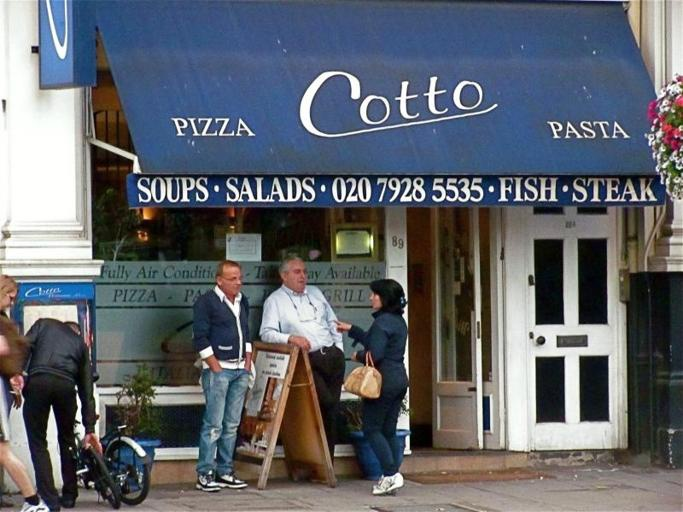non-vehicle: (69, 417, 153, 507), (77, 442, 122, 511)
